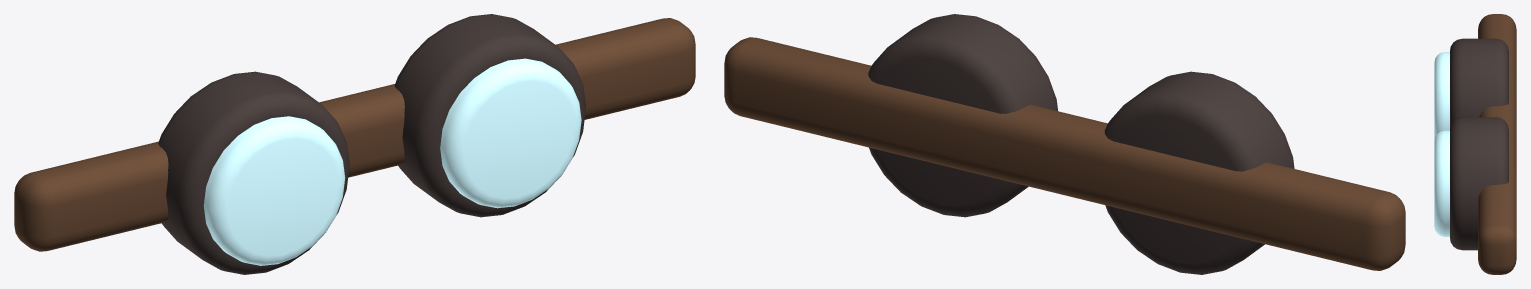
File: part_goggles.glb
The picture shows the model from 3 angles, left to right: view 1: azimuth 30°, elevation 25°; view 2: azimuth 150°, elevation 25°; view 3: azimuth 270°, elevation 25°; orthographic projection. The views are drawn at different scales.
Parts seen in each view (by area): view 1: Gog_Band, Gog_Lens_L, Gog_Lens_R, Gog_Rim_R, Gog_Rim_L; view 2: Gog_Band, Gog_Rim_L, Gog_Rim_R; view 3: Gog_Band, Gog_Rim_R, Gog_Rim_L, Gog_Lens_R, Gog_Lens_L.
Boxes of the visible parts, box(x1,y1,x2,y2) form: Gog_Band: box(14, 18, 695, 251); Gog_Lens_L: box(203, 116, 345, 265); Gog_Lens_R: box(440, 58, 581, 208); Gog_Rim_R: box(394, 14, 585, 217); Gog_Rim_L: box(158, 71, 349, 274); Gog_Band: box(724, 37, 1405, 270); Gog_Rim_L: box(1104, 71, 1294, 274); Gog_Rim_R: box(868, 14, 1057, 217); Gog_Band: box(1478, 14, 1516, 274); Gog_Rim_R: box(1450, 117, 1508, 250); Gog_Rim_L: box(1450, 38, 1508, 127); Gog_Lens_R: box(1434, 130, 1449, 236); Gog_Lens_L: box(1434, 52, 1449, 140).
Size of the model in its own units: 1.03 by 0.26 by 0.16.
